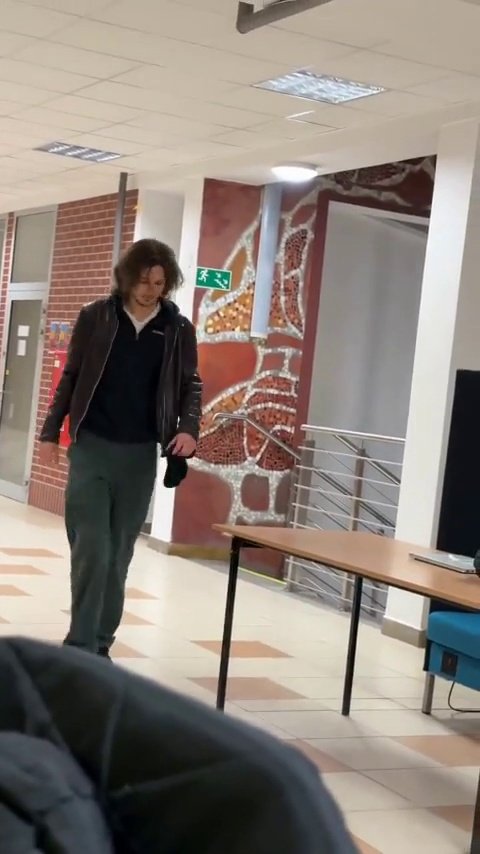no vest: (45, 238, 199, 665)
